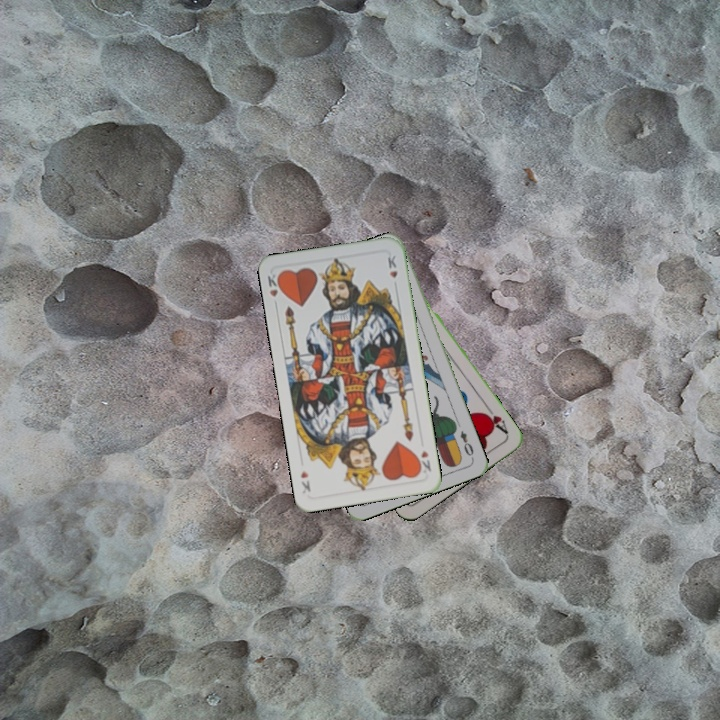EO: (456, 427, 476, 462)
HA: (479, 402, 511, 437)
HK: (263, 269, 285, 310), (413, 446, 433, 477)
